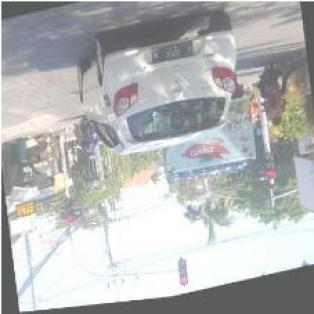Semaforo Rojo: (266, 156, 278, 186), (62, 197, 75, 224), (177, 262, 188, 290)
